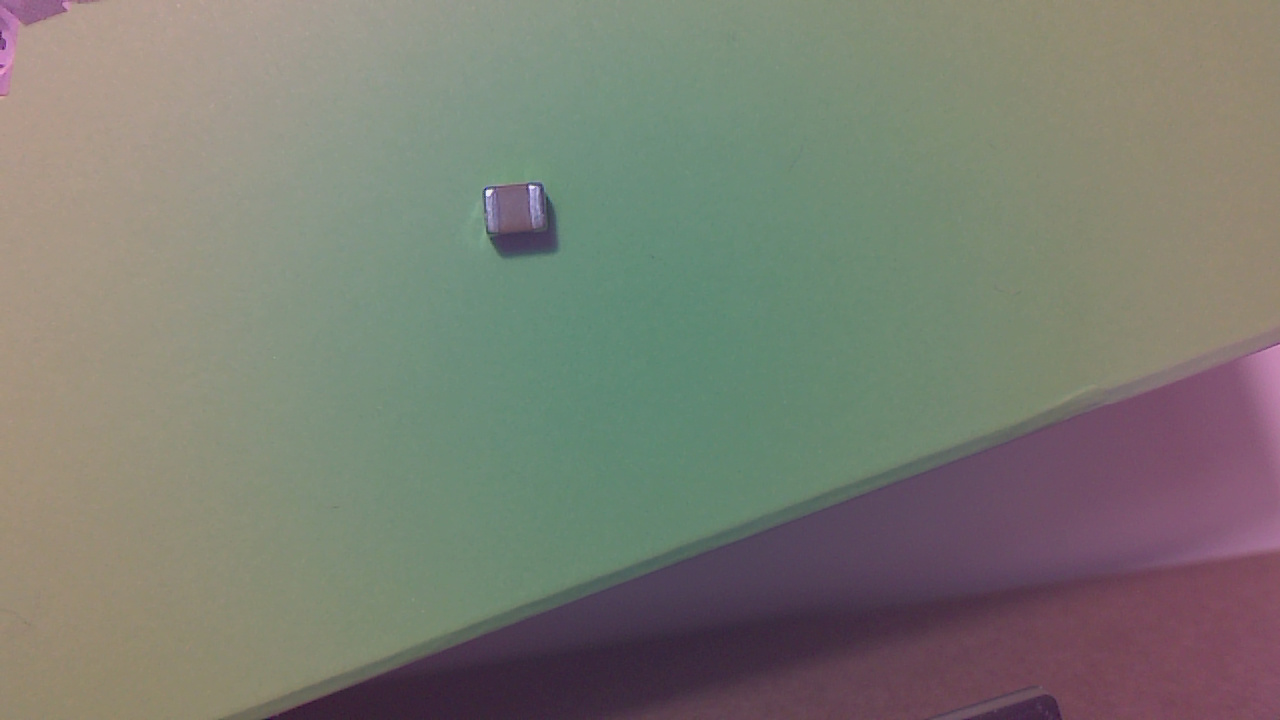Condensator: (484, 185, 556, 255)
